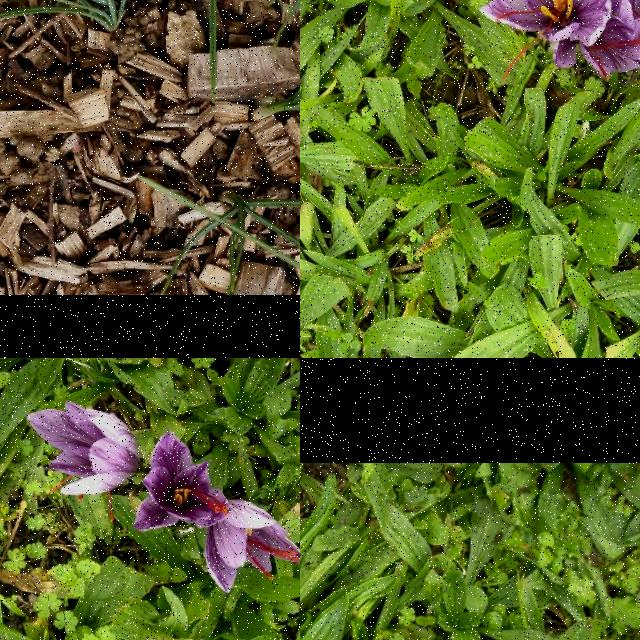flower: (26, 402, 144, 522), (133, 431, 235, 532), (207, 498, 300, 593)
overlap: (480, 0, 640, 80)
